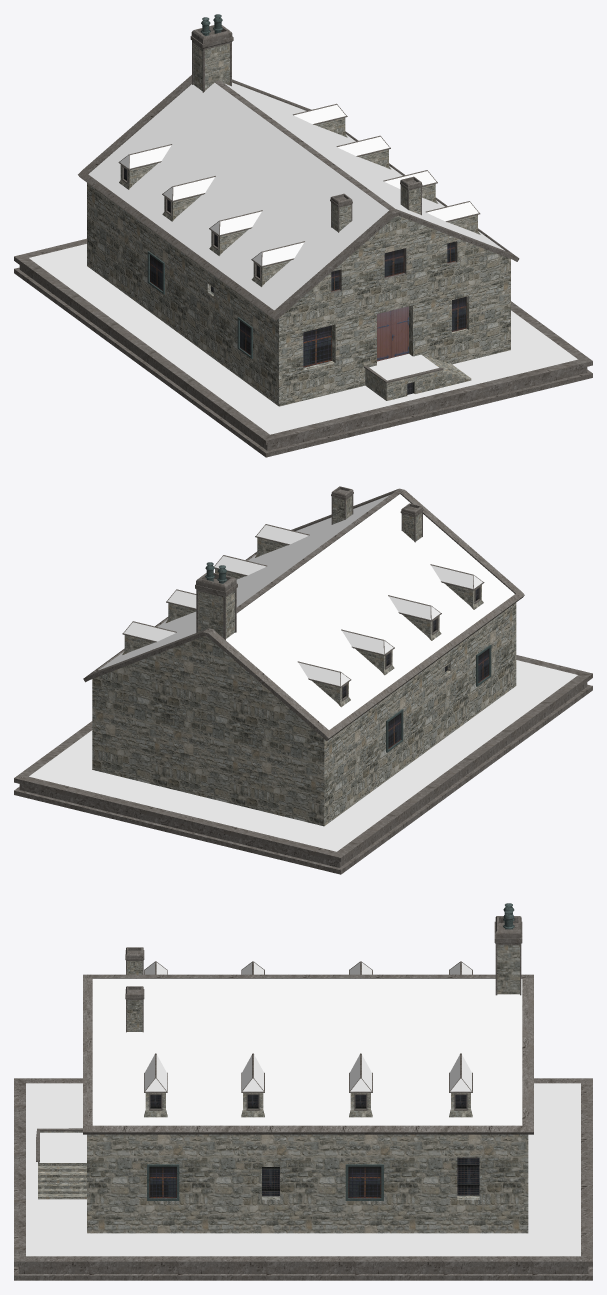
Rendered from hutgbl.glb.
3 views of the same model, one above another, from view 1: azimuth 30°, elevation 25°; view 2: azimuth 150°, elevation 25°; view 3: azimuth 270°, elevation 25° (orthographic). The views are drawn at different scales.
Visible parts, largest first — view 1: Node4, Node1, Node5, Node3, Node2, Node6, Node8, Node7, Node9, Node10, Node11, Node12 (+1 smaller); view 2: Node4, Node1, Node3, Node2, Node7, Node9, Node8, Node6, Node10, Node12, Node11, Node13; view 3: Node4, Node1, Node5, Node3, Node2, Node11, Node12, Node13, Node10.
Part boxes in pixels (x1,y1,x2,y2): Node4: (78, 75, 519, 406); Node1: (14, 238, 592, 457); Node5: (364, 354, 471, 400); Node3: (190, 14, 233, 92); Node2: (330, 176, 422, 232); Node6: (118, 144, 172, 189); Node8: (251, 241, 304, 286); Node7: (162, 176, 215, 221); Node9: (209, 210, 262, 255); Node10: (293, 103, 347, 137); Node11: (336, 135, 391, 169); Node12: (426, 201, 480, 234); Node4: (83, 488, 524, 826); Node1: (14, 655, 592, 874); Node3: (195, 562, 237, 639); Node2: (331, 486, 423, 542); Node7: (341, 629, 394, 675); Node9: (388, 595, 441, 640); Node8: (430, 564, 484, 609); Node6: (297, 661, 351, 707); Node10: (122, 621, 176, 654); Node12: (255, 524, 309, 557); Node11: (166, 589, 196, 622); Node13: (214, 555, 266, 579); Node4: (83, 974, 533, 1233); Node1: (14, 1078, 592, 1280); Node5: (36, 1128, 86, 1199); Node3: (494, 903, 522, 995); Node2: (125, 947, 144, 1032); Node11: (349, 1053, 372, 1117); Node12: (144, 1053, 167, 1117); Node13: (241, 1053, 264, 1117); Node10: (449, 1053, 472, 1117).
Bounding box in the file's own units: 5.7 × 4.06 × 7.6.
9 materials, 7 textured.
